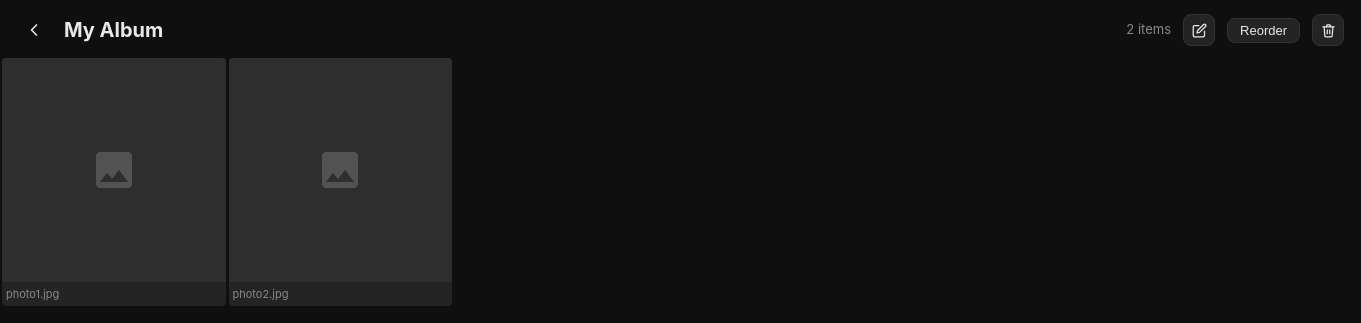
Scenario: Collection detail — rename UI › clicking rename shows an input pre-filled with the current name
What coordinates should you click on to do the following:
click the button named "Rename collection"
I would click on:
 (1199, 30)
Its box is top-left (1183, 14), bottom-right (1215, 46).
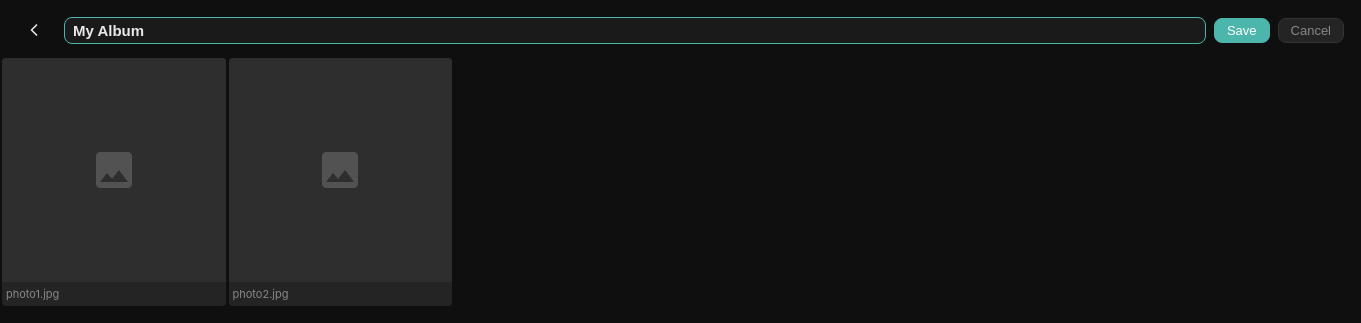
expect the field named "Collection name" holds "My Album": met, box top-left (64, 16), bottom-right (1206, 44)
